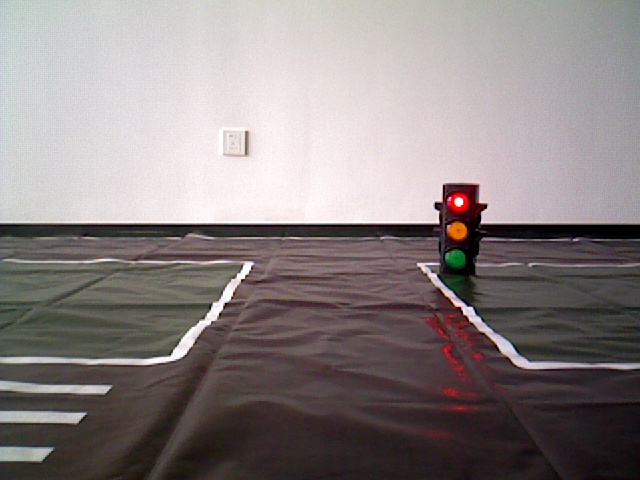red: (439, 187, 477, 274)
